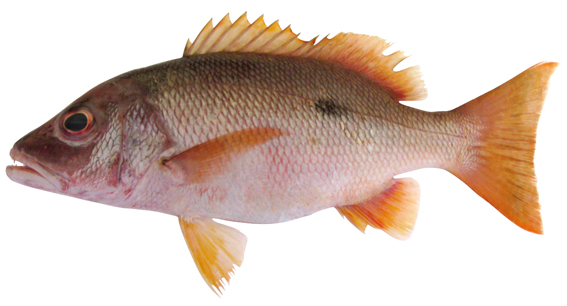fish: (5, 11, 559, 297)
